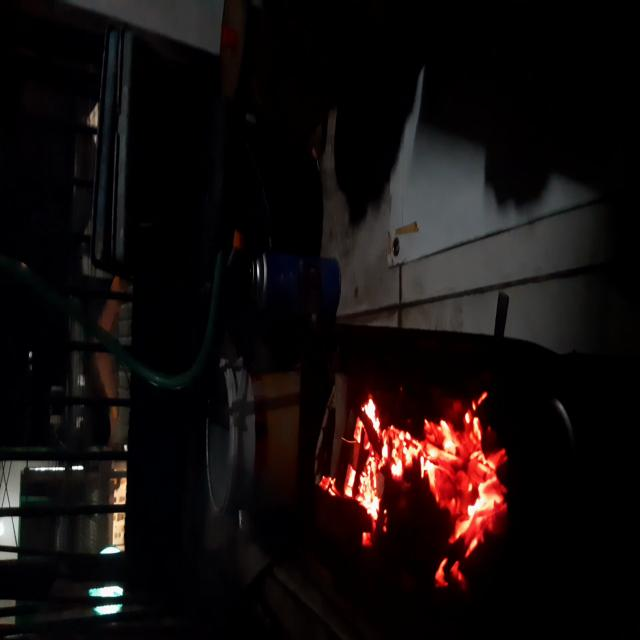Fire: (359, 414, 501, 518)
